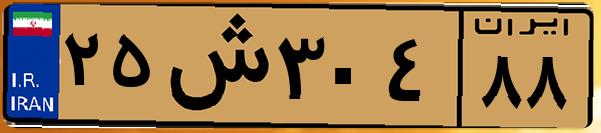0: (330, 28, 385, 110)
2: (57, 26, 110, 100)
3: (270, 28, 330, 110)
4: (385, 28, 445, 110)
5: (110, 28, 158, 98)
8: (475, 38, 525, 113), (525, 38, 570, 115)
ش: (158, 12, 270, 120)
